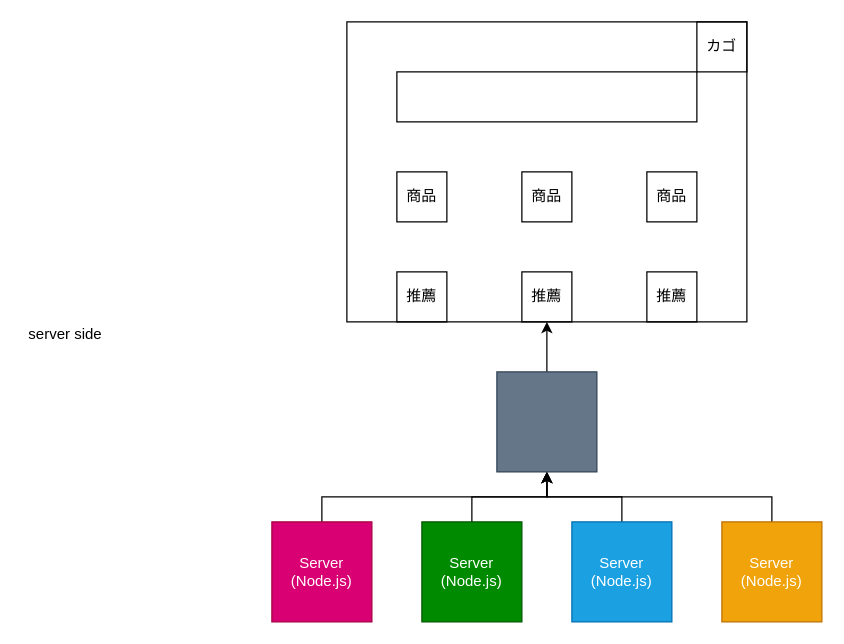
This 844x644 diagram has some shape labels left out. Here are the shapes that lost their labels. From the top down, the centre of each, then its label:
the point at 546,96: 検索
the point at 546,421: 組成 Server (Node.js)
